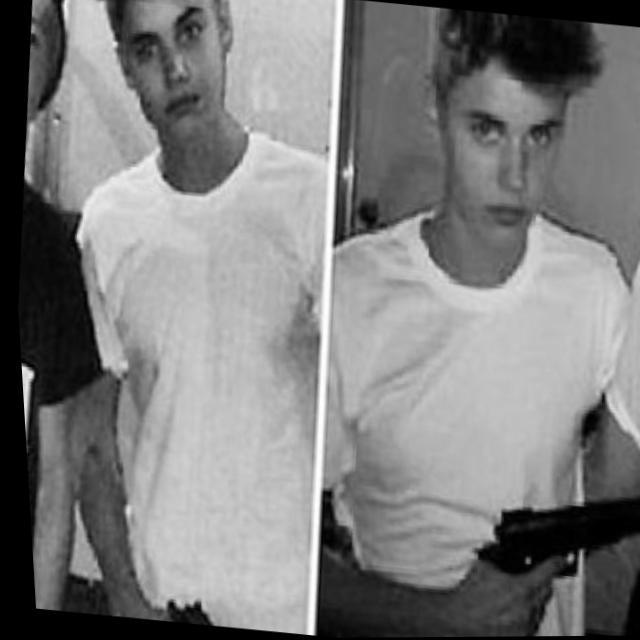weapon: (456, 468, 640, 638)
